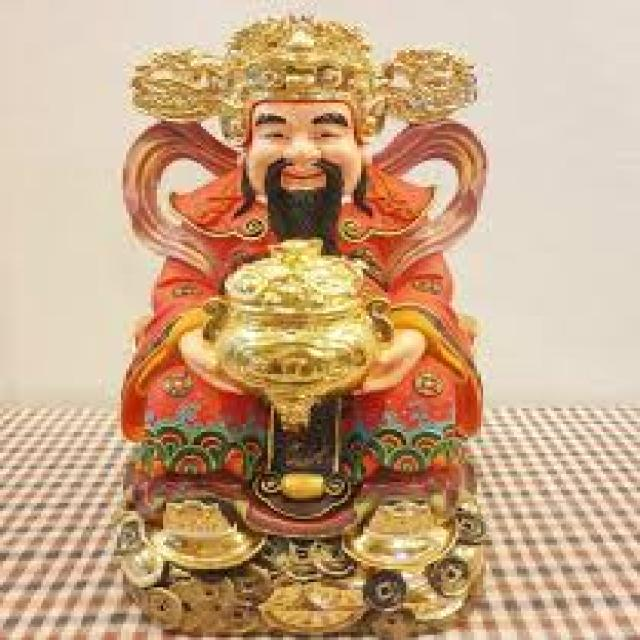Cai shen: (112, 11, 484, 515)
